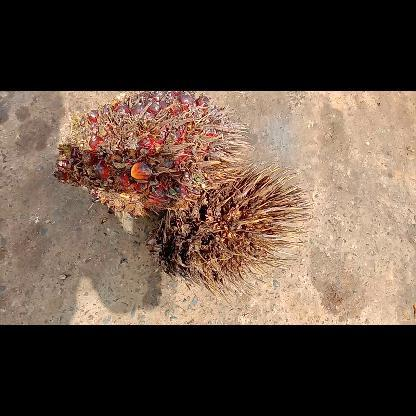Janjang kosong: (146, 162, 310, 300)
TBS masak: (53, 91, 249, 219)
